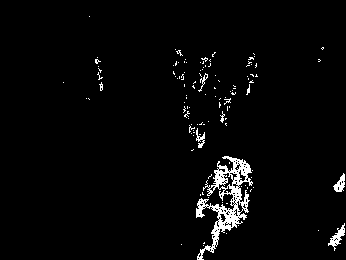person: (192, 151, 252, 255), (181, 79, 210, 151)
